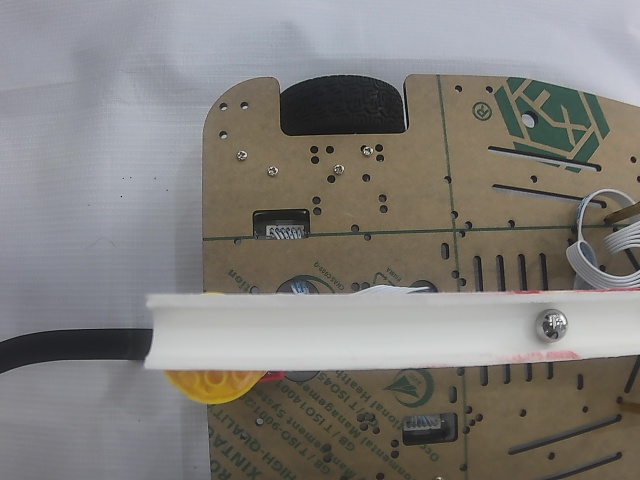steelball: (534, 308, 569, 342)
